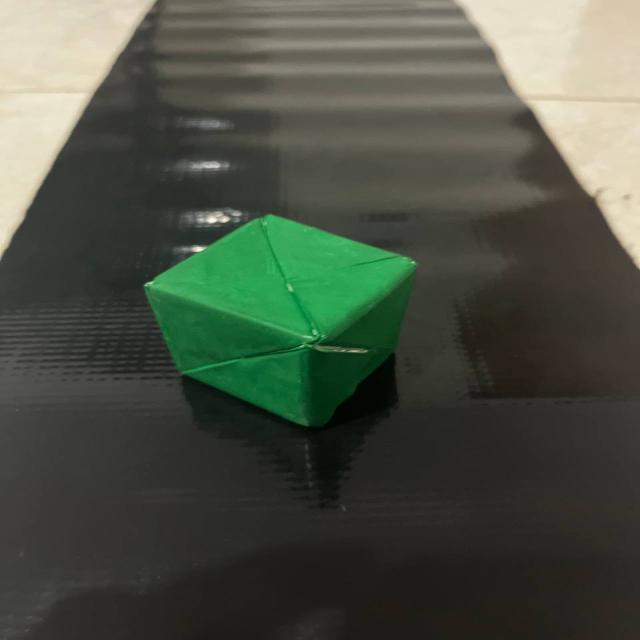Verde: (133, 207, 433, 428)
